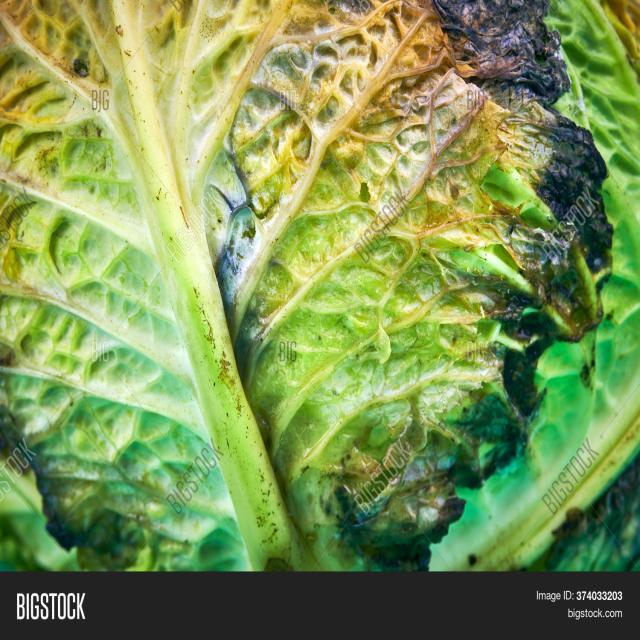rotten cabbage: (0, 4, 614, 477)
